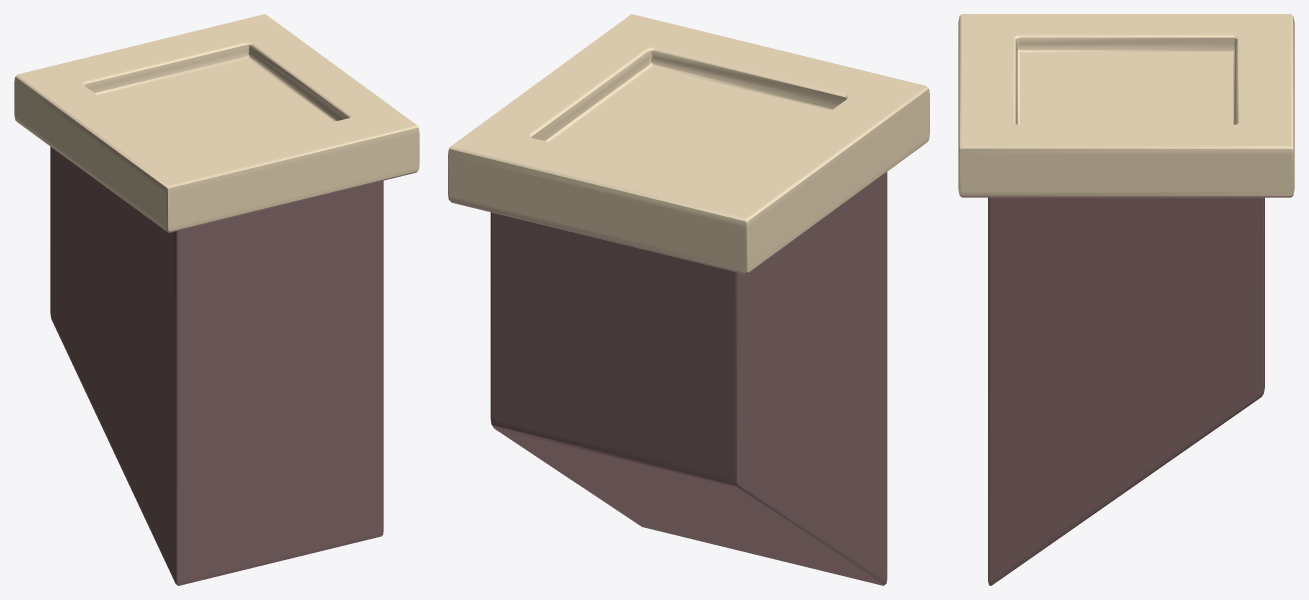
Rendered from Chimney.fbx.
3 renders of one model, left to right at view 1: azimuth 30°, elevation 25°; view 2: azimuth 150°, elevation 25°; view 3: azimuth 270°, elevation 25°, orthographic. The views are drawn at different scales.
Parts seen in each view (by area): view 1: Plane.006; view 2: Plane.006; view 3: Plane.006.
Boxes of the visible parts, x1=… form: Plane.006: x1=14, y1=14, x2=419, y2=585; Plane.006: x1=448, y1=14, x2=929, y2=585; Plane.006: x1=958, y1=14, x2=1294, y2=585.
Bounding box in the file's own units: 59.09 × 92.8 × 62.49.
